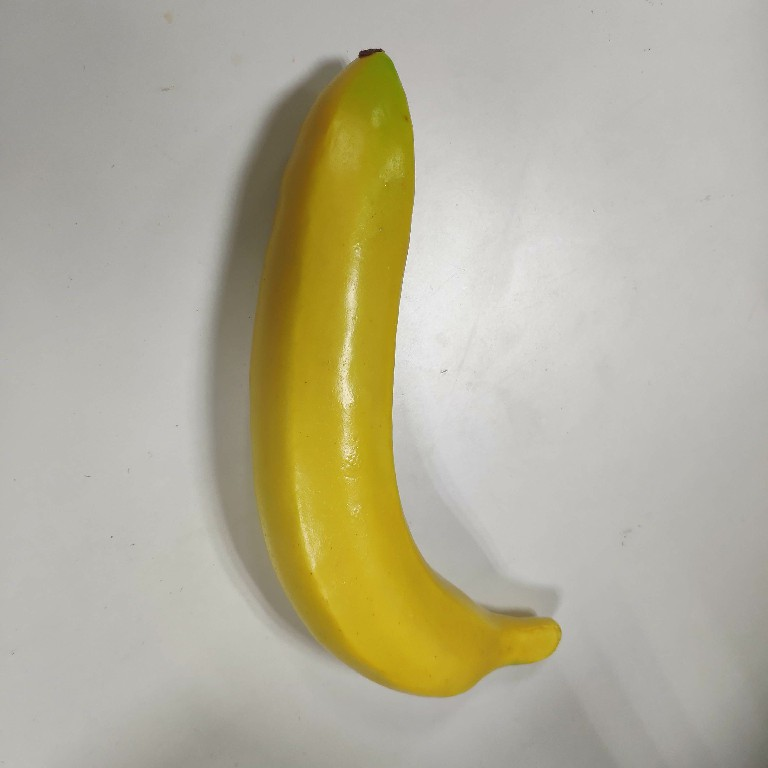fruit_banana: (242, 46, 567, 704)
